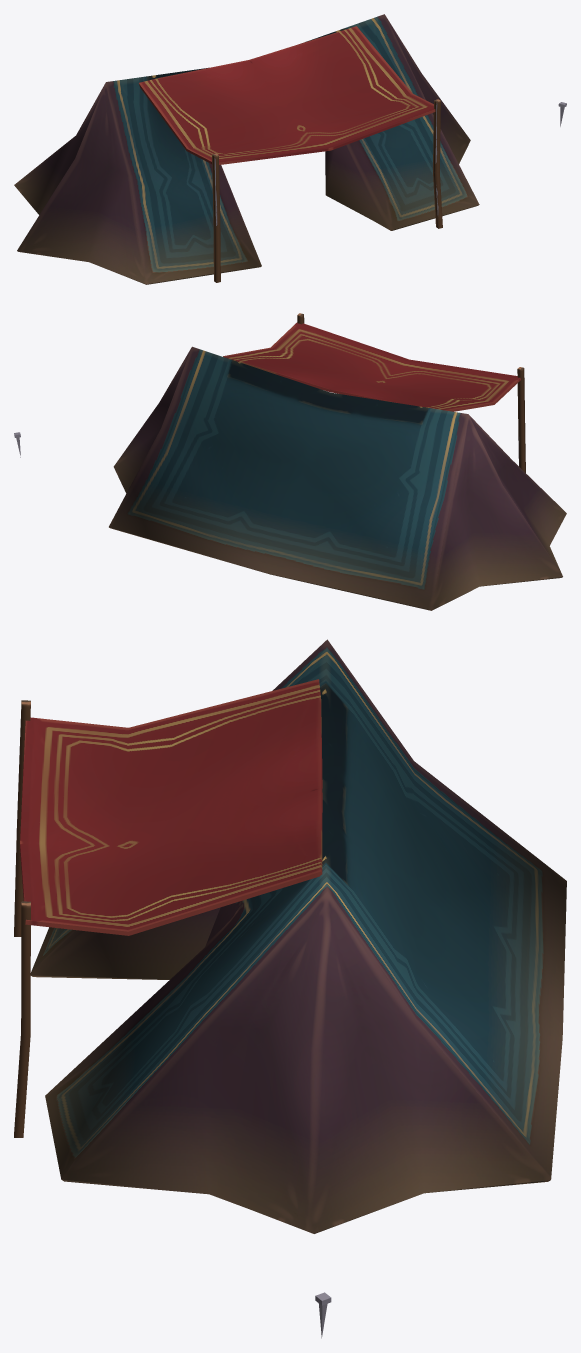
Rendered from P_Tent_A_Collider.FBX.
The picture shows the model from 3 angles, top to bottom: view 1: azimuth 30°, elevation 25°; view 2: azimuth 150°, elevation 25°; view 3: azimuth 270°, elevation 25°; orthographic projection. The views are drawn at different scales.
Visible parts, largest first — view 1: P_Tent_A_Collider; view 2: P_Tent_A_Collider; view 3: P_Tent_A_Collider.
Part boxes in pixels (x1=…): P_Tent_A_Collider: x1=14, y1=14, x2=566, y2=284; P_Tent_A_Collider: x1=14, y1=313, x2=566, y2=610; P_Tent_A_Collider: x1=14, y1=639, x2=566, y2=1338.
Size of the model in its own units: 1030 by 278 by 481.
1 material, 1 textured.
